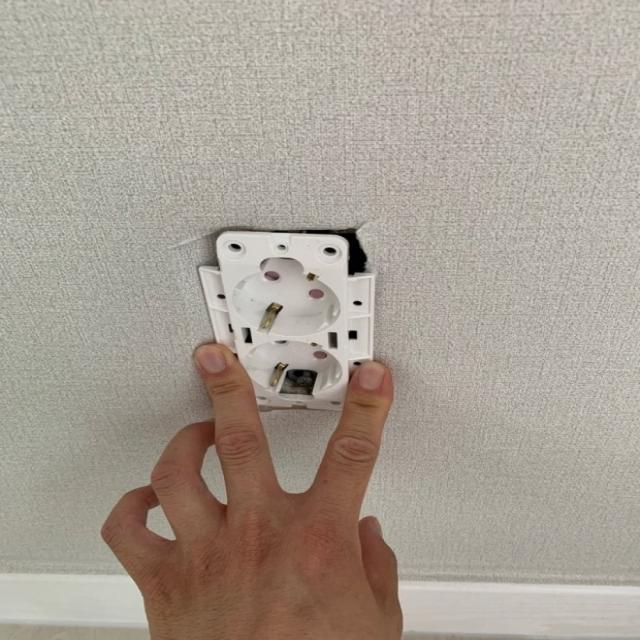typeb: (112, 206, 476, 443)
